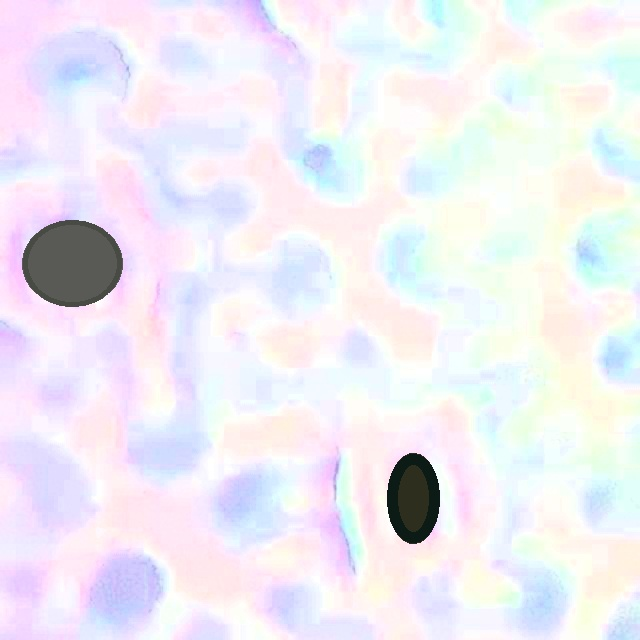open: (22, 220, 123, 306), (386, 453, 440, 543)
